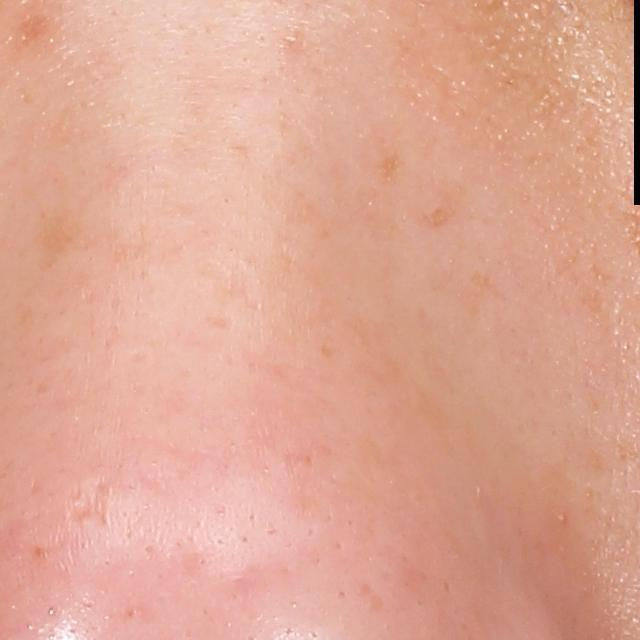atrophic_scar: (65, 476, 117, 534)
melasma: (375, 142, 401, 186)
